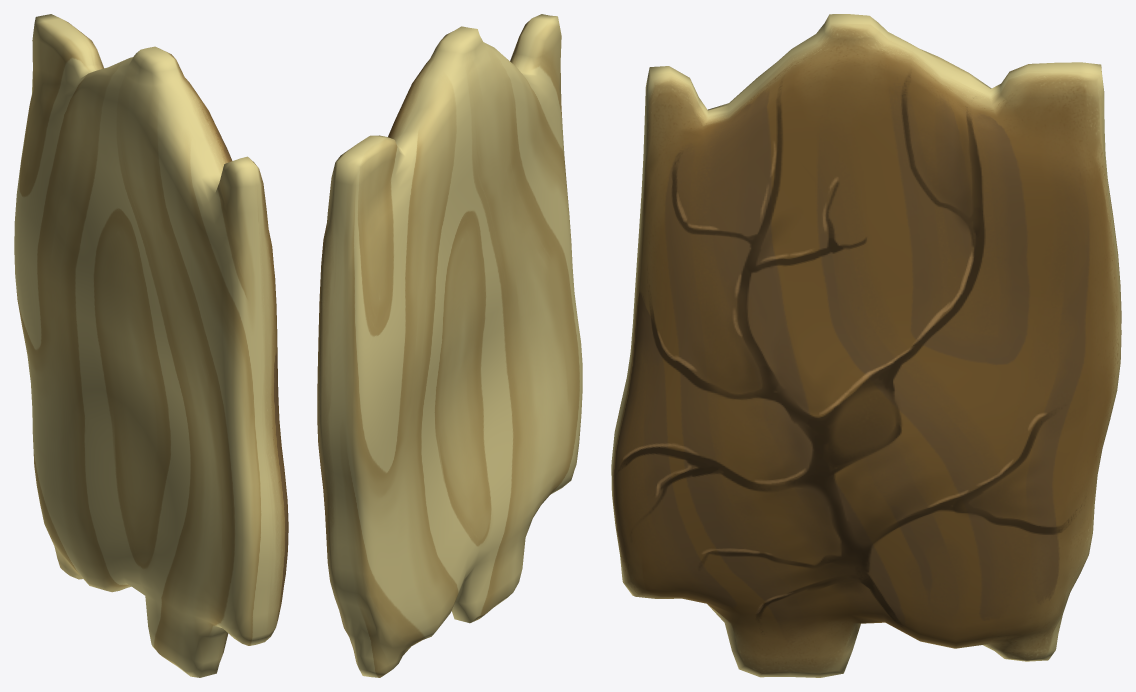
The model's file is NewBreakBark.fbx.
The picture shows the model from 3 angles, left to right: view 1: azimuth 30°, elevation 25°; view 2: azimuth 150°, elevation 25°; view 3: azimuth 270°, elevation 25°; orthographic projection. The views are drawn at different scales.
Visible parts, largest first — view 1: pCube1; view 2: pCube1; view 3: pCube1.
Boxes of the visible parts, x1,y1,x2,y2 form: pCube1: (14,14,288,677); pCube1: (317,14,582,677); pCube1: (611,14,1121,677).
Bounding box in the file's own units: 27.82 × 180 × 127.
1 material, 1 textured.
